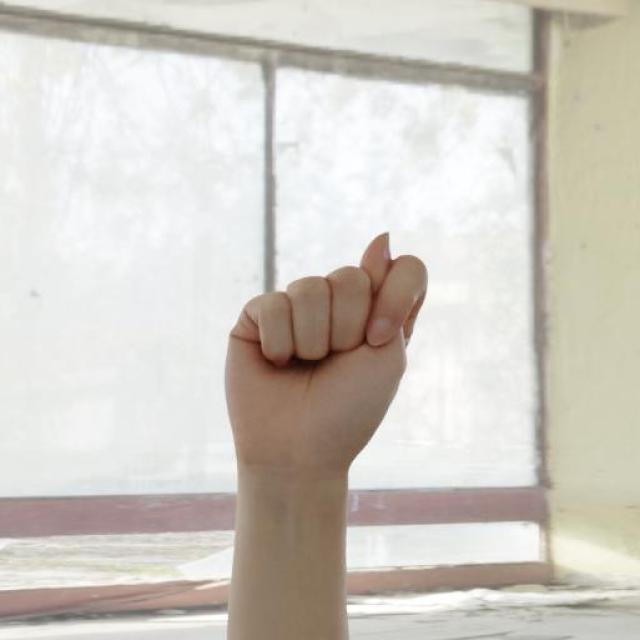T: (220, 228, 434, 480)
